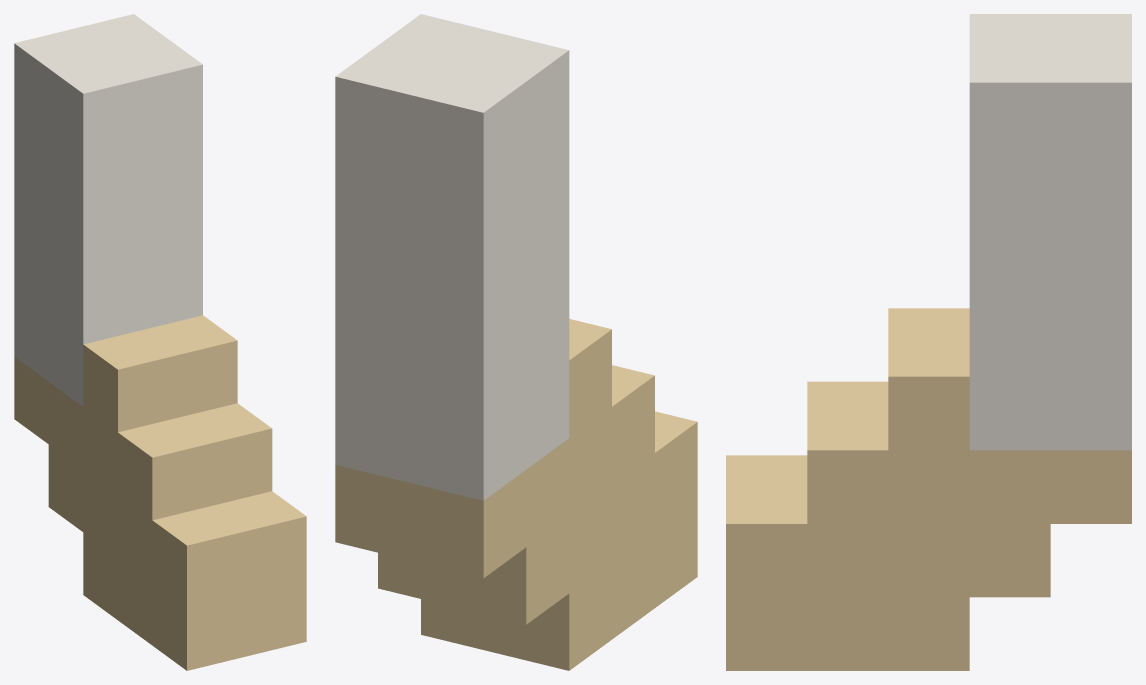
Rendered from puppy__tail.glb.
3 renders of one model, left to right at view 1: azimuth 30°, elevation 25°; view 2: azimuth 150°, elevation 25°; view 3: azimuth 270°, elevation 25°, orthographic. The views are drawn at different scales.
Parts seen in each view (by area): view 1: puppy__tail; view 2: puppy__tail; view 3: puppy__tail.
Boxes of the visible parts, box(x1,y1,x2,y2) form: puppy__tail: box(14, 14, 306, 670); puppy__tail: box(335, 14, 697, 670); puppy__tail: box(726, 14, 1131, 670).
Bounding box in the file's own units: 0.2 × 0.8 × 0.5.
Materials: 1 (1 with a texture image).
